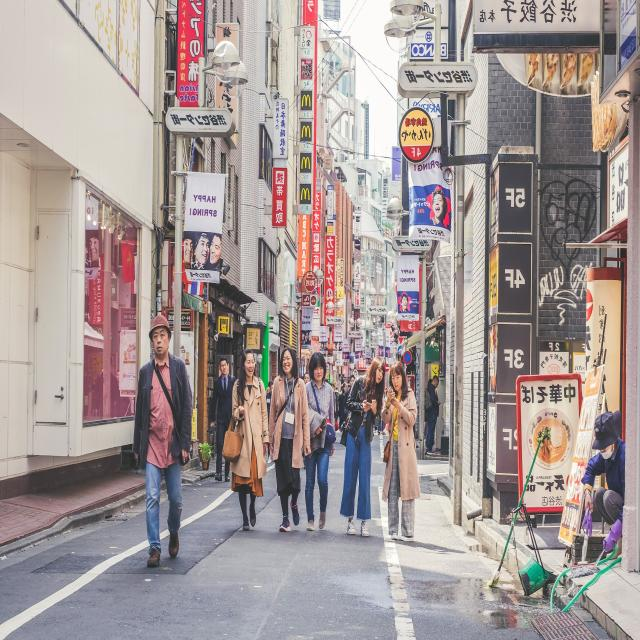adult: (132, 312, 192, 571), (342, 358, 388, 536), (272, 344, 311, 532), (231, 346, 270, 531), (384, 361, 417, 548), (299, 353, 333, 532), (582, 411, 625, 548), (207, 354, 237, 484), (426, 375, 441, 453)
